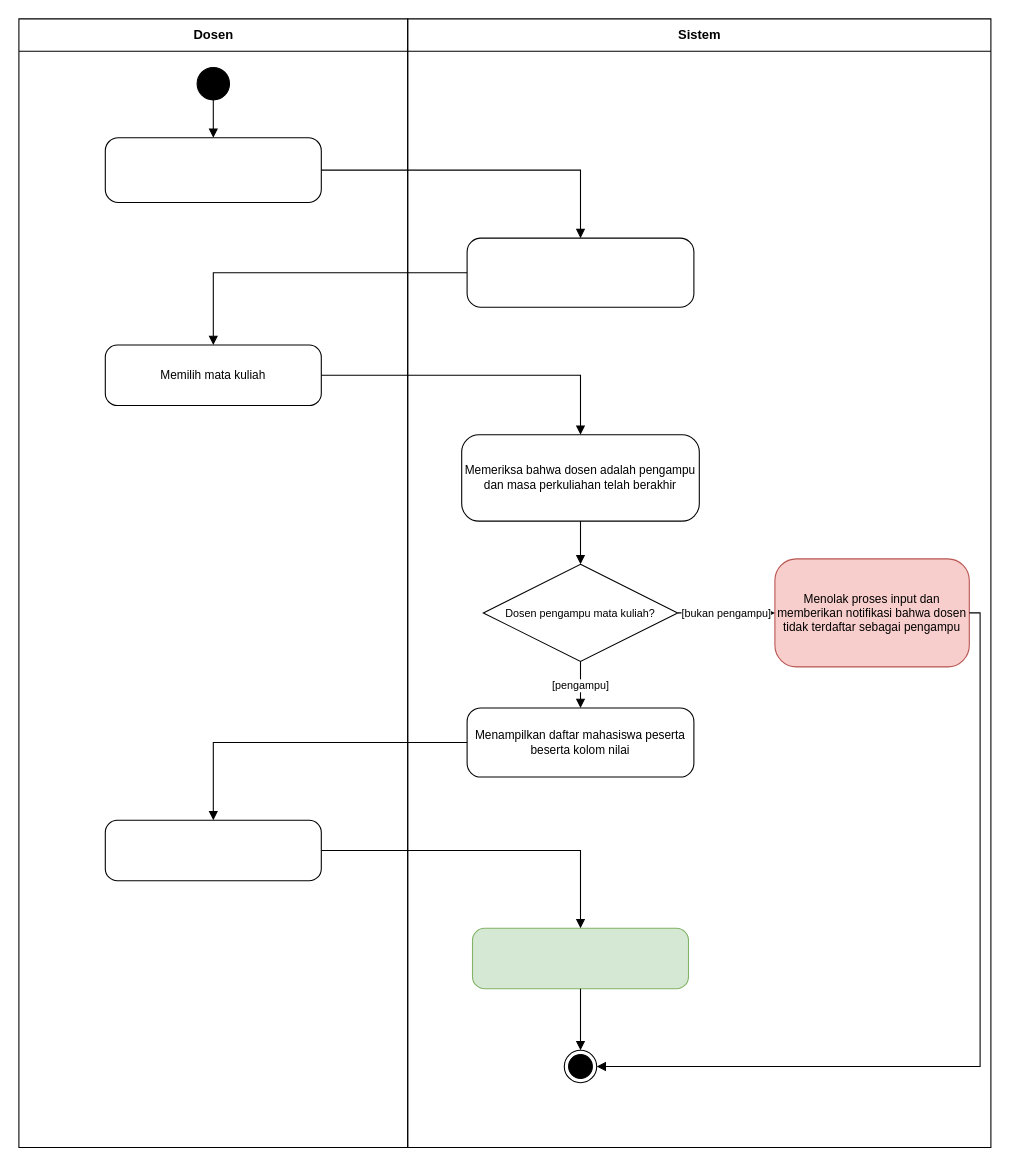
The diagram is 1010 pixels wide and 1166 high, and some of its shapes have lost their labels. Here are the shapes that lost their labels. From the top down, the centre of each, then its label:
[212,169]: Membuka fungsi Input Nilai Mata Kuliah
[580,272]: Menampilkan daftar mata kuliah yang diampu dosen
[212,850]: Mengisi nilai setiap mahasiswa
[579,958]: Menampung isian nilai
